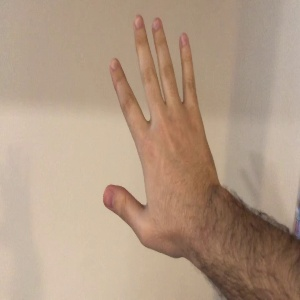hand: (104, 16, 220, 252)
